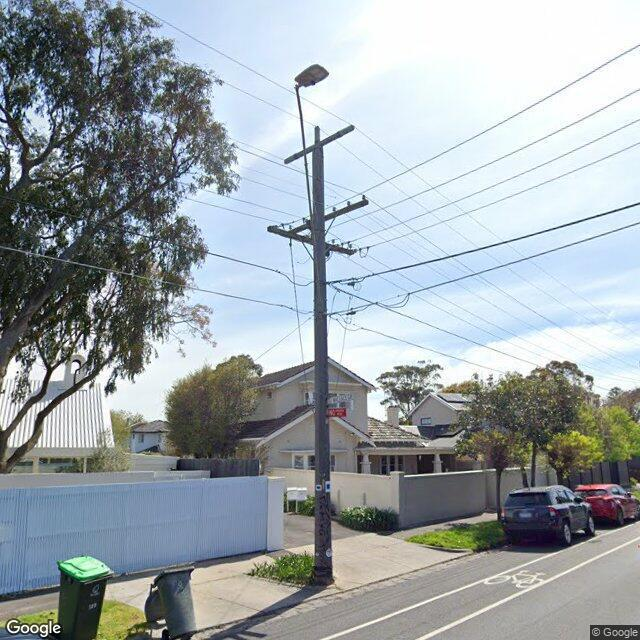HV-transmission: (284, 124, 356, 166)
concrete-pole: (312, 144, 333, 578)
crossarm: (267, 222, 371, 259), (288, 193, 369, 235), (294, 132, 338, 160)
streetlight: (295, 62, 329, 319)
